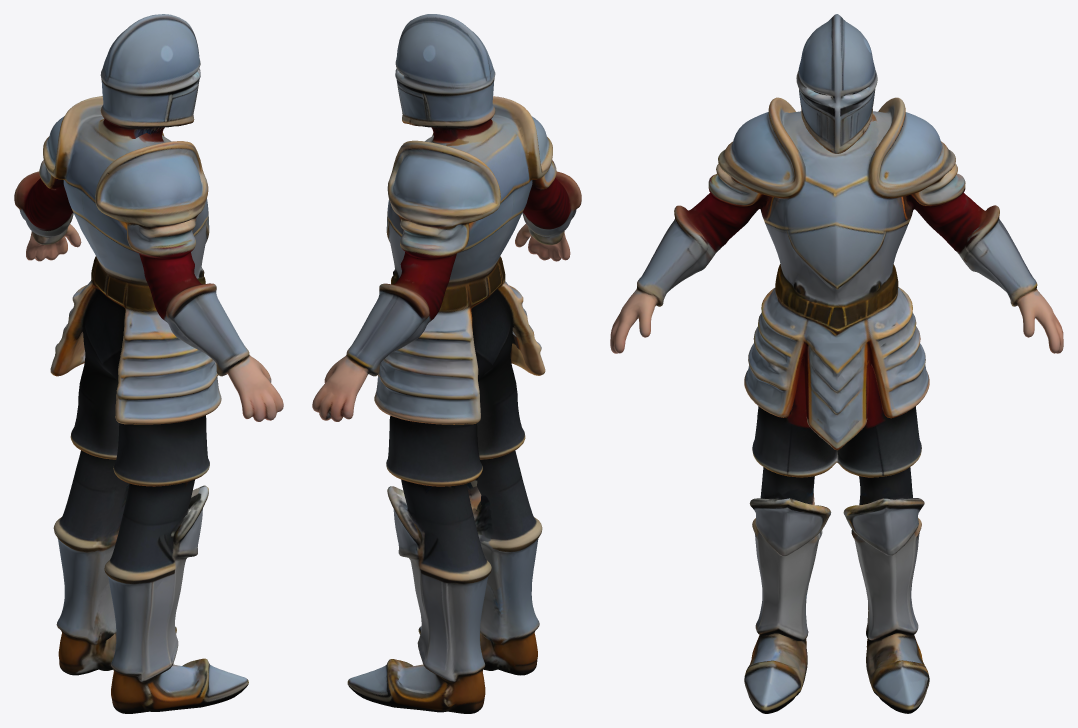
3 renders of one model, left to right at view 1: azimuth 30°, elevation 25°; view 2: azimuth 150°, elevation 25°; view 3: azimuth 270°, elevation 25°, orthographic.
Parts seen in each view (by area): view 1: tripo_node_5c00879c; view 2: tripo_node_5c00879c; view 3: tripo_node_5c00879c.
Part boxes in pixels (<box>): tripo_node_5c00879c: <box>14,14,283,713</box>; tripo_node_5c00879c: <box>312,14,581,713</box>; tripo_node_5c00879c: <box>610,14,1063,713</box>.
Size of the model in its own units: 20.47 by 94.87 by 57.94.
1 material, 1 textured.
